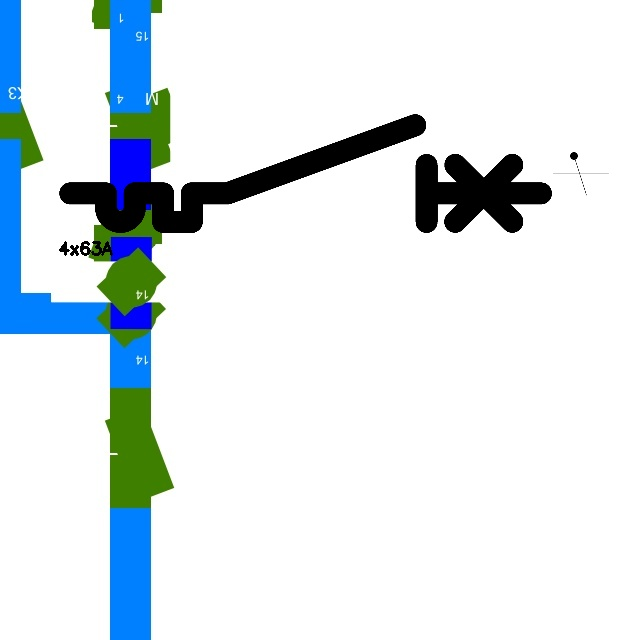interruptor_termomagnetico: (58, 113, 552, 234)
